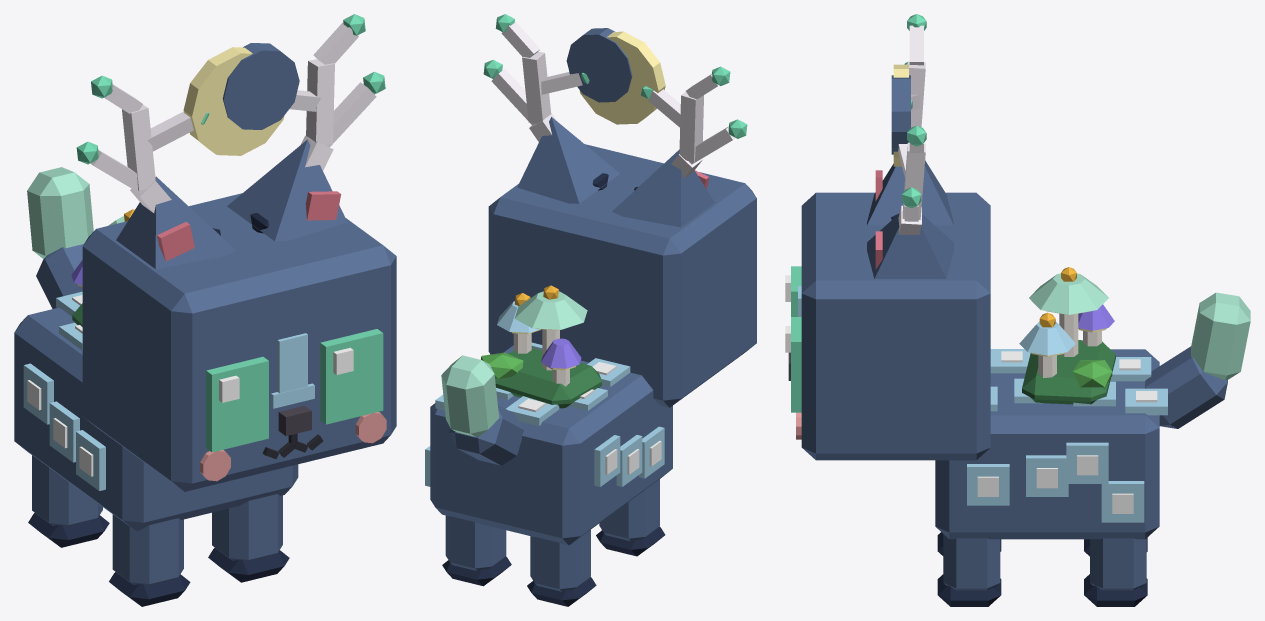
The model's file is CleanACat_Cat_Moonstag.fbx.
The picture shows the model from 3 angles, left to right: view 1: azimuth 30°, elevation 25°; view 2: azimuth 150°, elevation 25°; view 3: azimuth 270°, elevation 25°; orthographic projection. The views are drawn at different scales.
Visible parts, largest first — view 1: CleanACat_Cat_Moonstag_Head, CleanACat_Cat_Moonstag_Body, CleanACat_Cat_Moonstag_Prop, CleanACat_Cat_Moonstag_Tail, CleanACat_Cat_Moonstag_EarL, CleanACat_Cat_Moonstag_LegF2, CleanACat_Cat_Moonstag_EarR, CleanACat_Cat_Moonstag_Eye1, CleanACat_Cat_Moonstag_Eye2, CleanACat_Cat_Moonstag_LegF1, CleanACat_Cat_Moonstag_LegB2, CleanACat_Cat_Moonstag_Glow; view 2: CleanACat_Cat_Moonstag_Head, CleanACat_Cat_Moonstag_Body, CleanACat_Cat_Moonstag_Prop, CleanACat_Cat_Moonstag_Prop2, CleanACat_Cat_Moonstag_Tail, CleanACat_Cat_Moonstag_EarL, CleanACat_Cat_Moonstag_EarR, CleanACat_Cat_Moonstag_LegB2, CleanACat_Cat_Moonstag_LegB1, CleanACat_Cat_Moonstag_LegF2, CleanACat_Cat_Moonstag_Glow; view 3: CleanACat_Cat_Moonstag_Head, CleanACat_Cat_Moonstag_Body, CleanACat_Cat_Moonstag_Prop2, CleanACat_Cat_Moonstag_Tail, CleanACat_Cat_Moonstag_Prop, CleanACat_Cat_Moonstag_EarL, CleanACat_Cat_Moonstag_LegF1, CleanACat_Cat_Moonstag_LegB1, CleanACat_Cat_Moonstag_EarR, CleanACat_Cat_Moonstag_Eye1, CleanACat_Cat_Moonstag_Glow.
Part boxes in pixels (bbox=[...]): CleanACat_Cat_Moonstag_Head: bbox=[82, 193, 396, 491]; CleanACat_Cat_Moonstag_Body: bbox=[14, 291, 298, 530]; CleanACat_Cat_Moonstag_Prop: bbox=[90, 22, 376, 235]; CleanACat_Cat_Moonstag_Tail: bbox=[27, 167, 93, 308]; CleanACat_Cat_Moonstag_EarL: bbox=[227, 139, 347, 241]; CleanACat_Cat_Moonstag_LegF2: bbox=[109, 514, 190, 606]; CleanACat_Cat_Moonstag_EarR: bbox=[116, 176, 236, 268]; CleanACat_Cat_Moonstag_Eye1: bbox=[320, 329, 383, 424]; CleanACat_Cat_Moonstag_Eye2: bbox=[206, 356, 268, 452]; CleanACat_Cat_Moonstag_LegF1: bbox=[208, 494, 289, 582]; CleanACat_Cat_Moonstag_LegB2: bbox=[28, 455, 109, 547]; CleanACat_Cat_Moonstag_Glow: bbox=[76, 14, 385, 164]; CleanACat_Cat_Moonstag_Head: bbox=[488, 144, 756, 407]; CleanACat_Cat_Moonstag_Body: bbox=[425, 342, 672, 545]; CleanACat_Cat_Moonstag_Prop: bbox=[491, 21, 735, 190]; CleanACat_Cat_Moonstag_Prop2: bbox=[481, 291, 601, 408]; CleanACat_Cat_Moonstag_Tail: bbox=[441, 355, 523, 465]; CleanACat_Cat_Moonstag_EarL: bbox=[517, 117, 619, 203]; CleanACat_Cat_Moonstag_EarR: bbox=[612, 149, 714, 227]; CleanACat_Cat_Moonstag_LegB2: bbox=[527, 529, 596, 606]; CleanACat_Cat_Moonstag_LegB1: bbox=[442, 515, 511, 586]; CleanACat_Cat_Moonstag_LegF2: bbox=[596, 479, 665, 556]; CleanACat_Cat_Moonstag_Glow: bbox=[483, 14, 747, 138]; CleanACat_Cat_Moonstag_Head: bbox=[788, 192, 990, 460]; CleanACat_Cat_Moonstag_Body: bbox=[935, 349, 1167, 539]; CleanACat_Cat_Moonstag_Prop2: bbox=[1019, 273, 1115, 404]; CleanACat_Cat_Moonstag_Tail: bbox=[1145, 292, 1250, 428]; CleanACat_Cat_Moonstag_Prop: bbox=[891, 25, 925, 234]; CleanACat_Cat_Moonstag_EarL: bbox=[867, 213, 953, 278]; CleanACat_Cat_Moonstag_LegF1: bbox=[937, 534, 1001, 606]; CleanACat_Cat_Moonstag_LegB1: bbox=[1084, 538, 1147, 606]; CleanACat_Cat_Moonstag_EarR: bbox=[867, 160, 953, 225]; CleanACat_Cat_Moonstag_Eye1: bbox=[785, 317, 801, 412]; CleanACat_Cat_Moonstag_Glow: bbox=[901, 14, 926, 208].
Size of the model in its own units: 1.36 by 2.37 by 1.97.
Materials: 1 (1 with a texture image).
